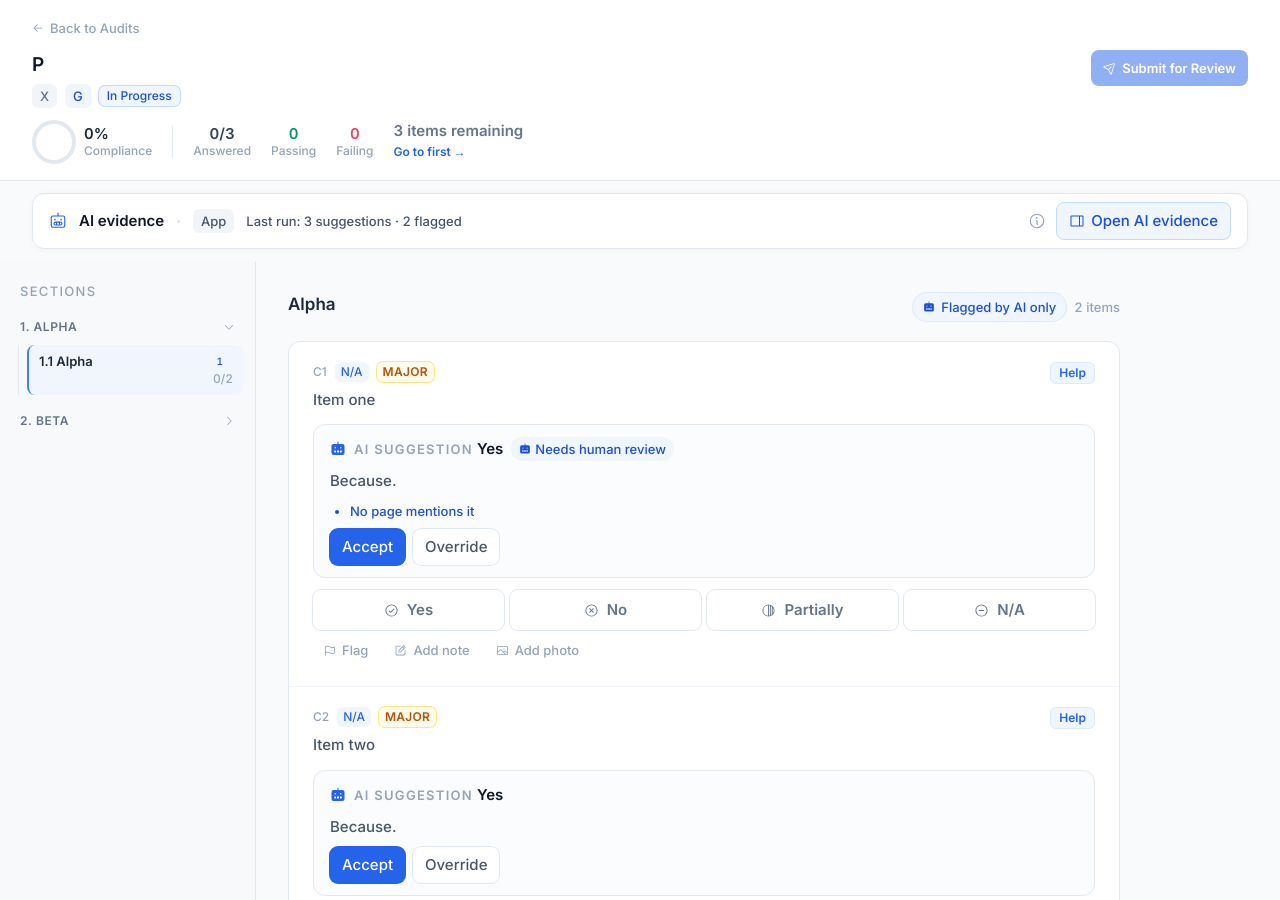
Test case: flagged filter, counts and provenance on the audit page › narrows the list to flagged suggestions and back
Click the button "Flagged by AI only" at (990,307), box [913, 293, 1066, 321]
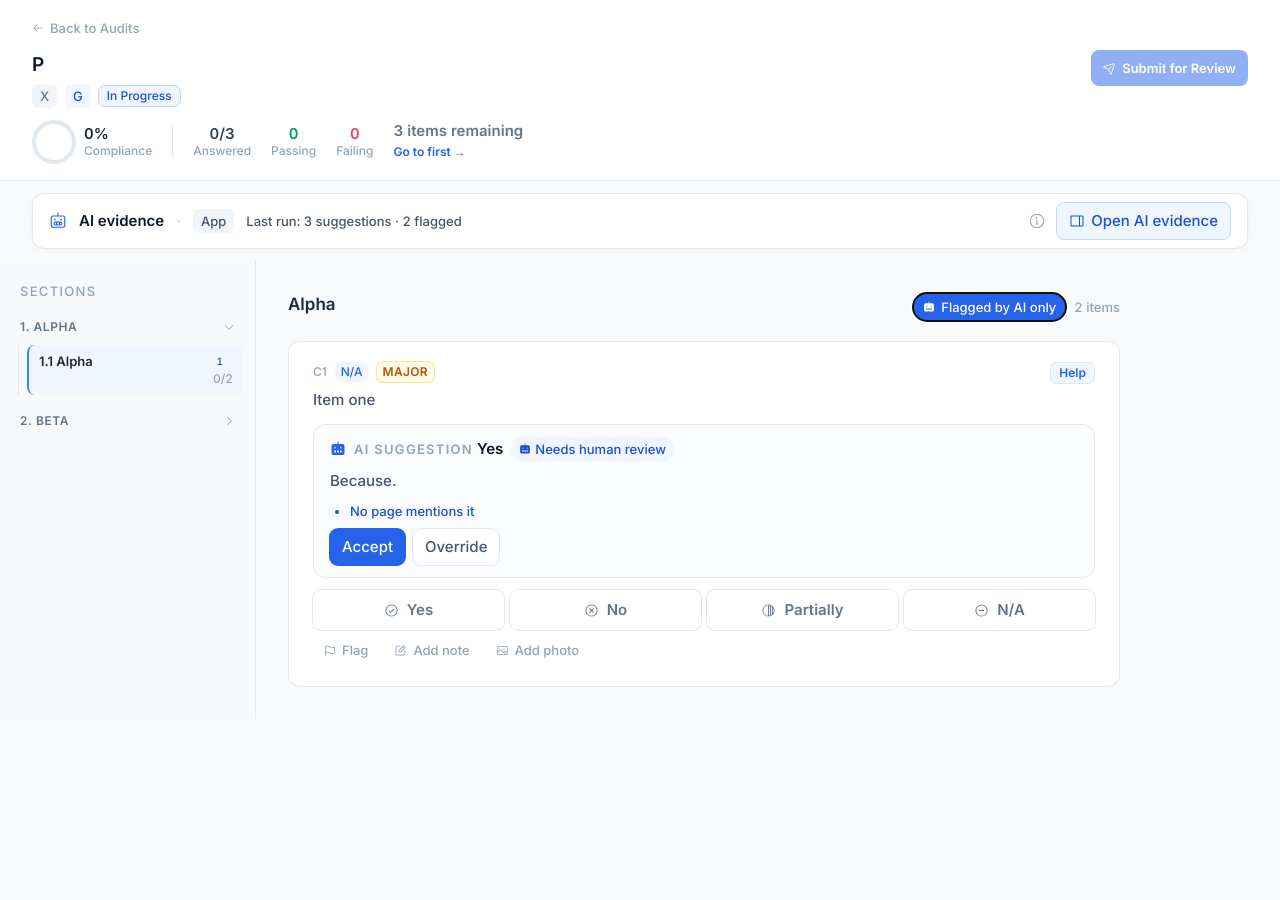
Expected: the text "Item one" is shown, [313, 390, 375, 409]
Now the text "Item two" is gone
Click the button "Flagged by AI only" at (990,307), box [913, 293, 1066, 321]
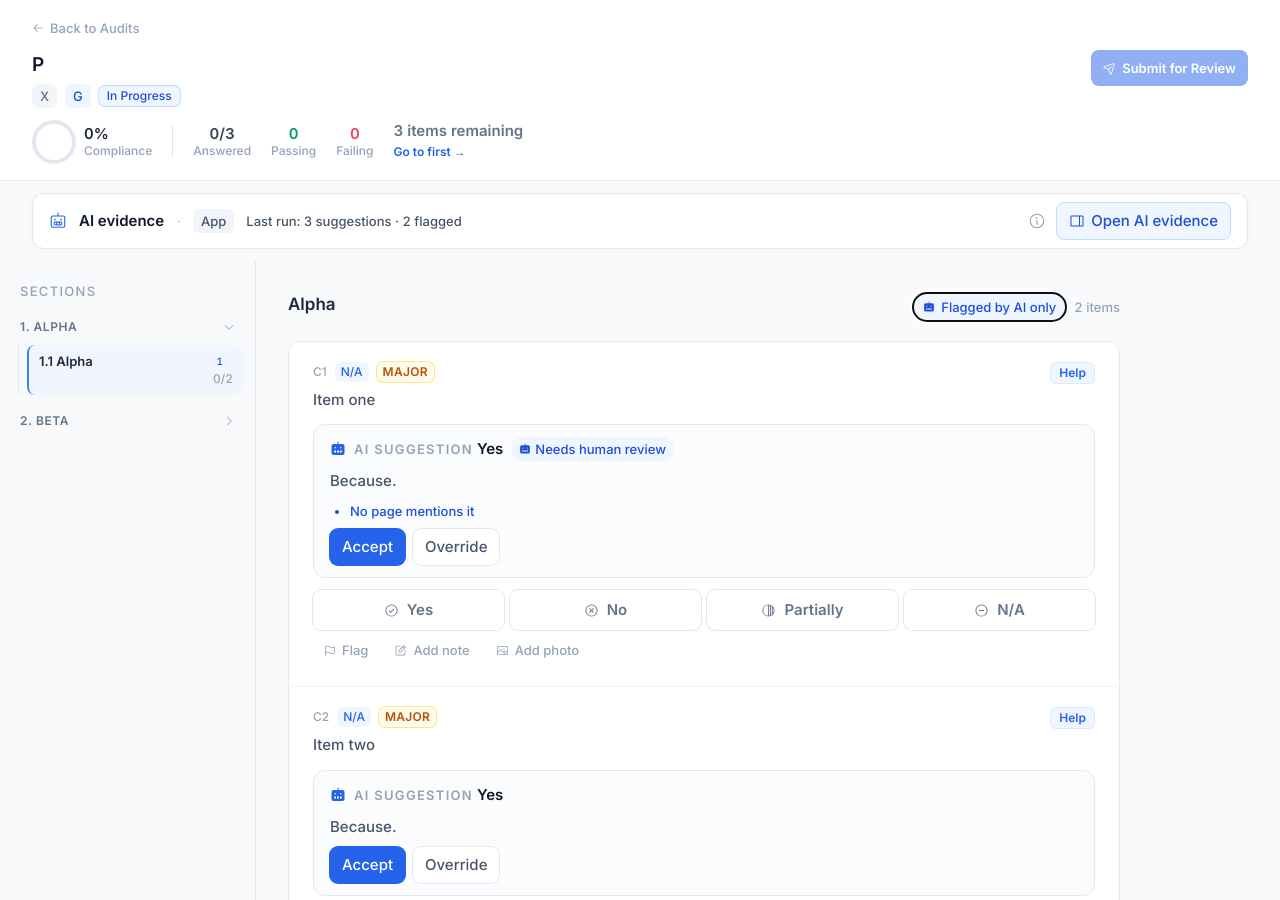
Now the text "Item two" is shown, box [313, 735, 375, 754]
